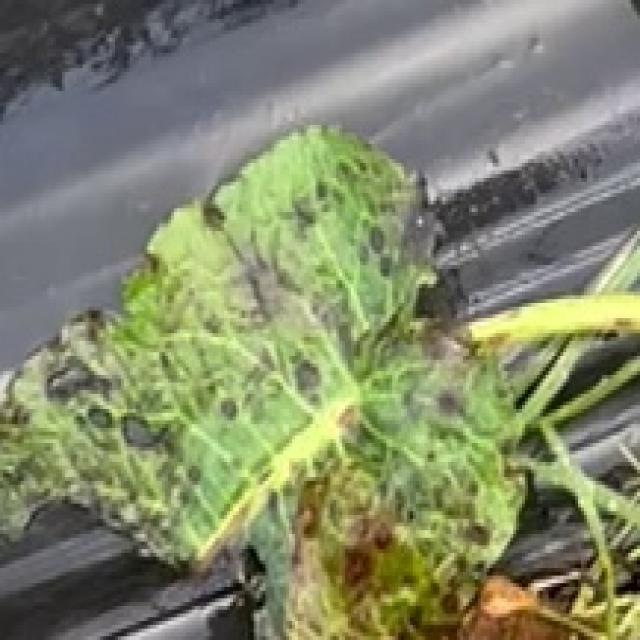organic waste: (0, 105, 629, 593)
